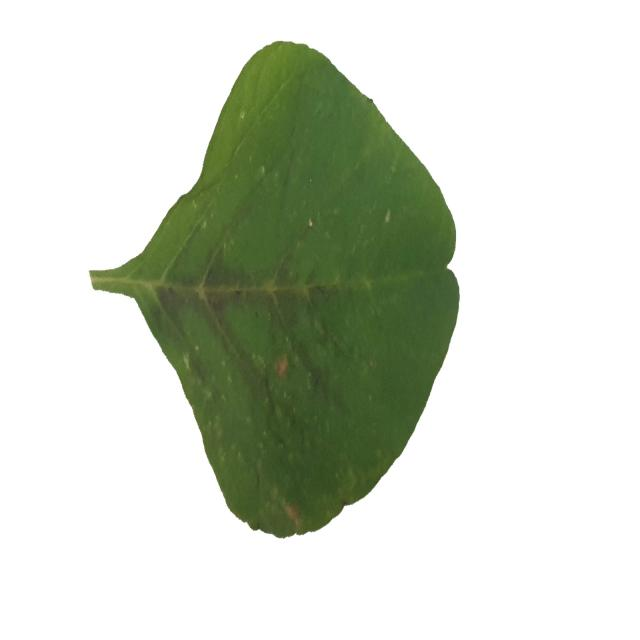Medicinal-Arive Dantu: (88, 39, 461, 543)
